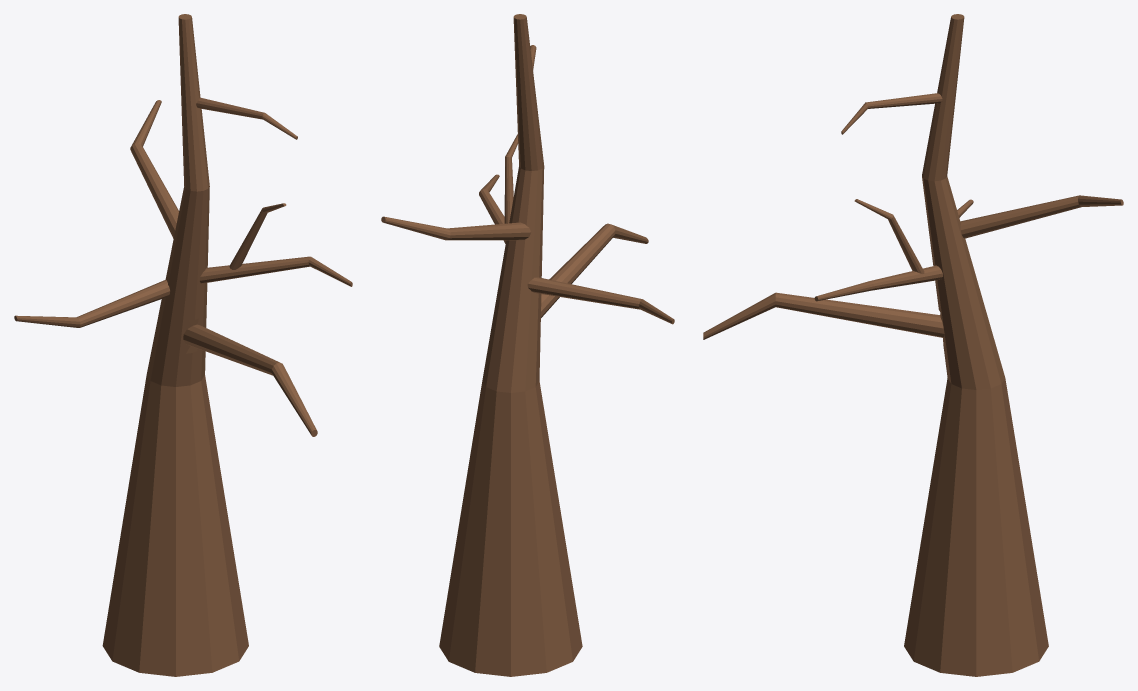
Rendered from DryTree1.fbx.
3 views of the same model, side by side, from view 1: azimuth 30°, elevation 25°; view 2: azimuth 150°, elevation 25°; view 3: azimuth 270°, elevation 25° (orthographic). The views are drawn at different scales.
Parts seen in each view (by area): view 1: Cylinder.002; view 2: Cylinder.002; view 3: Cylinder.002.
Boxes of the visible parts, x1,y1,x2,y2 form: Cylinder.002: (14,14,352,676); Cylinder.002: (381,14,674,676); Cylinder.002: (703,14,1123,676).
Bounding box in the file's own units: 409 × 958 × 580.
